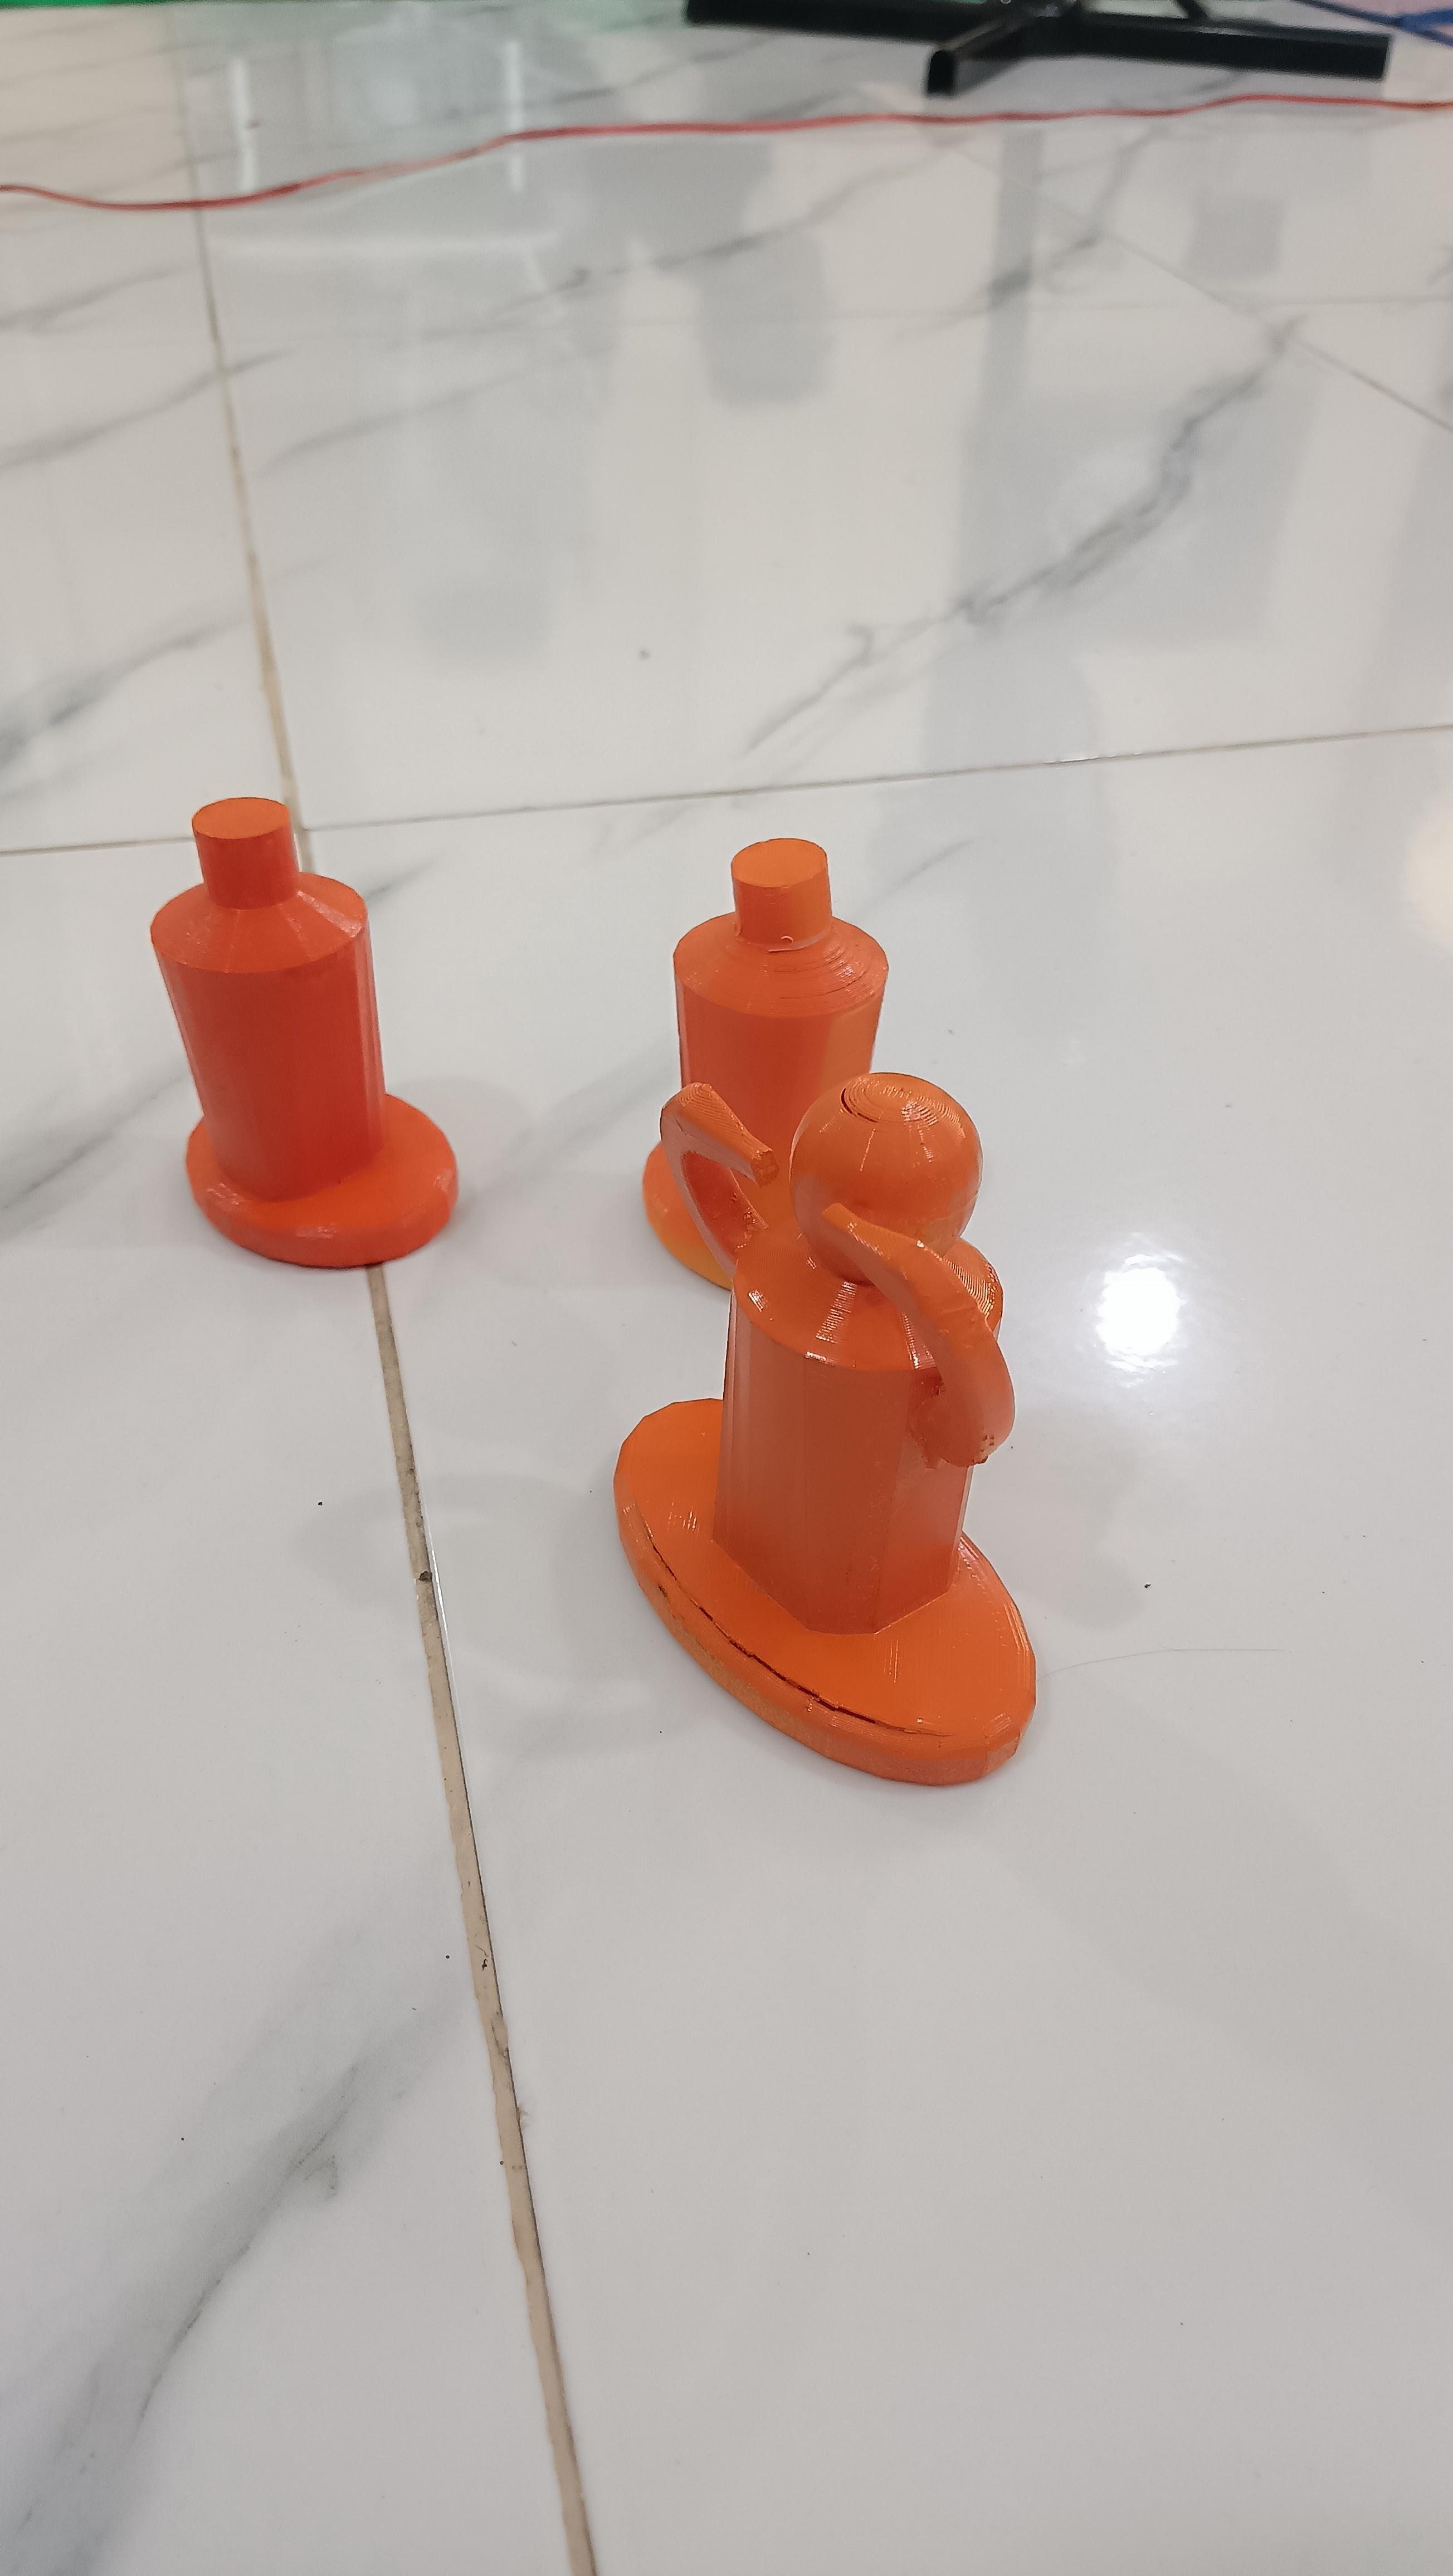dummy: (92, 780, 487, 1315), (638, 808, 939, 1320)
real_person: (616, 1084, 1084, 1848)
